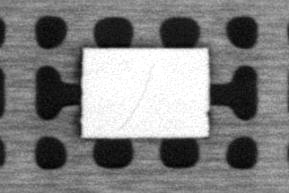DIE_CRACK: (118, 62, 153, 132)
